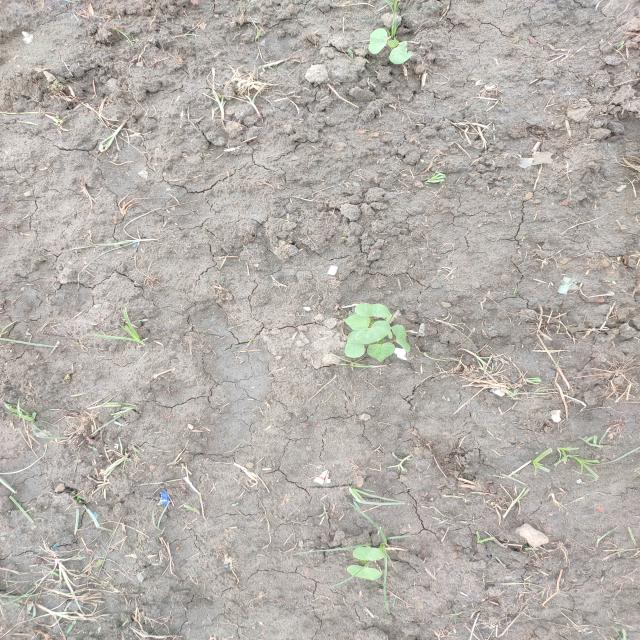seedling_s4: (355, 320, 391, 344), (367, 342, 395, 362), (389, 41, 413, 64), (392, 324, 411, 352), (347, 565, 382, 580), (368, 28, 388, 54), (345, 331, 364, 358), (355, 303, 390, 317), (342, 314, 370, 331), (352, 547, 384, 561)
